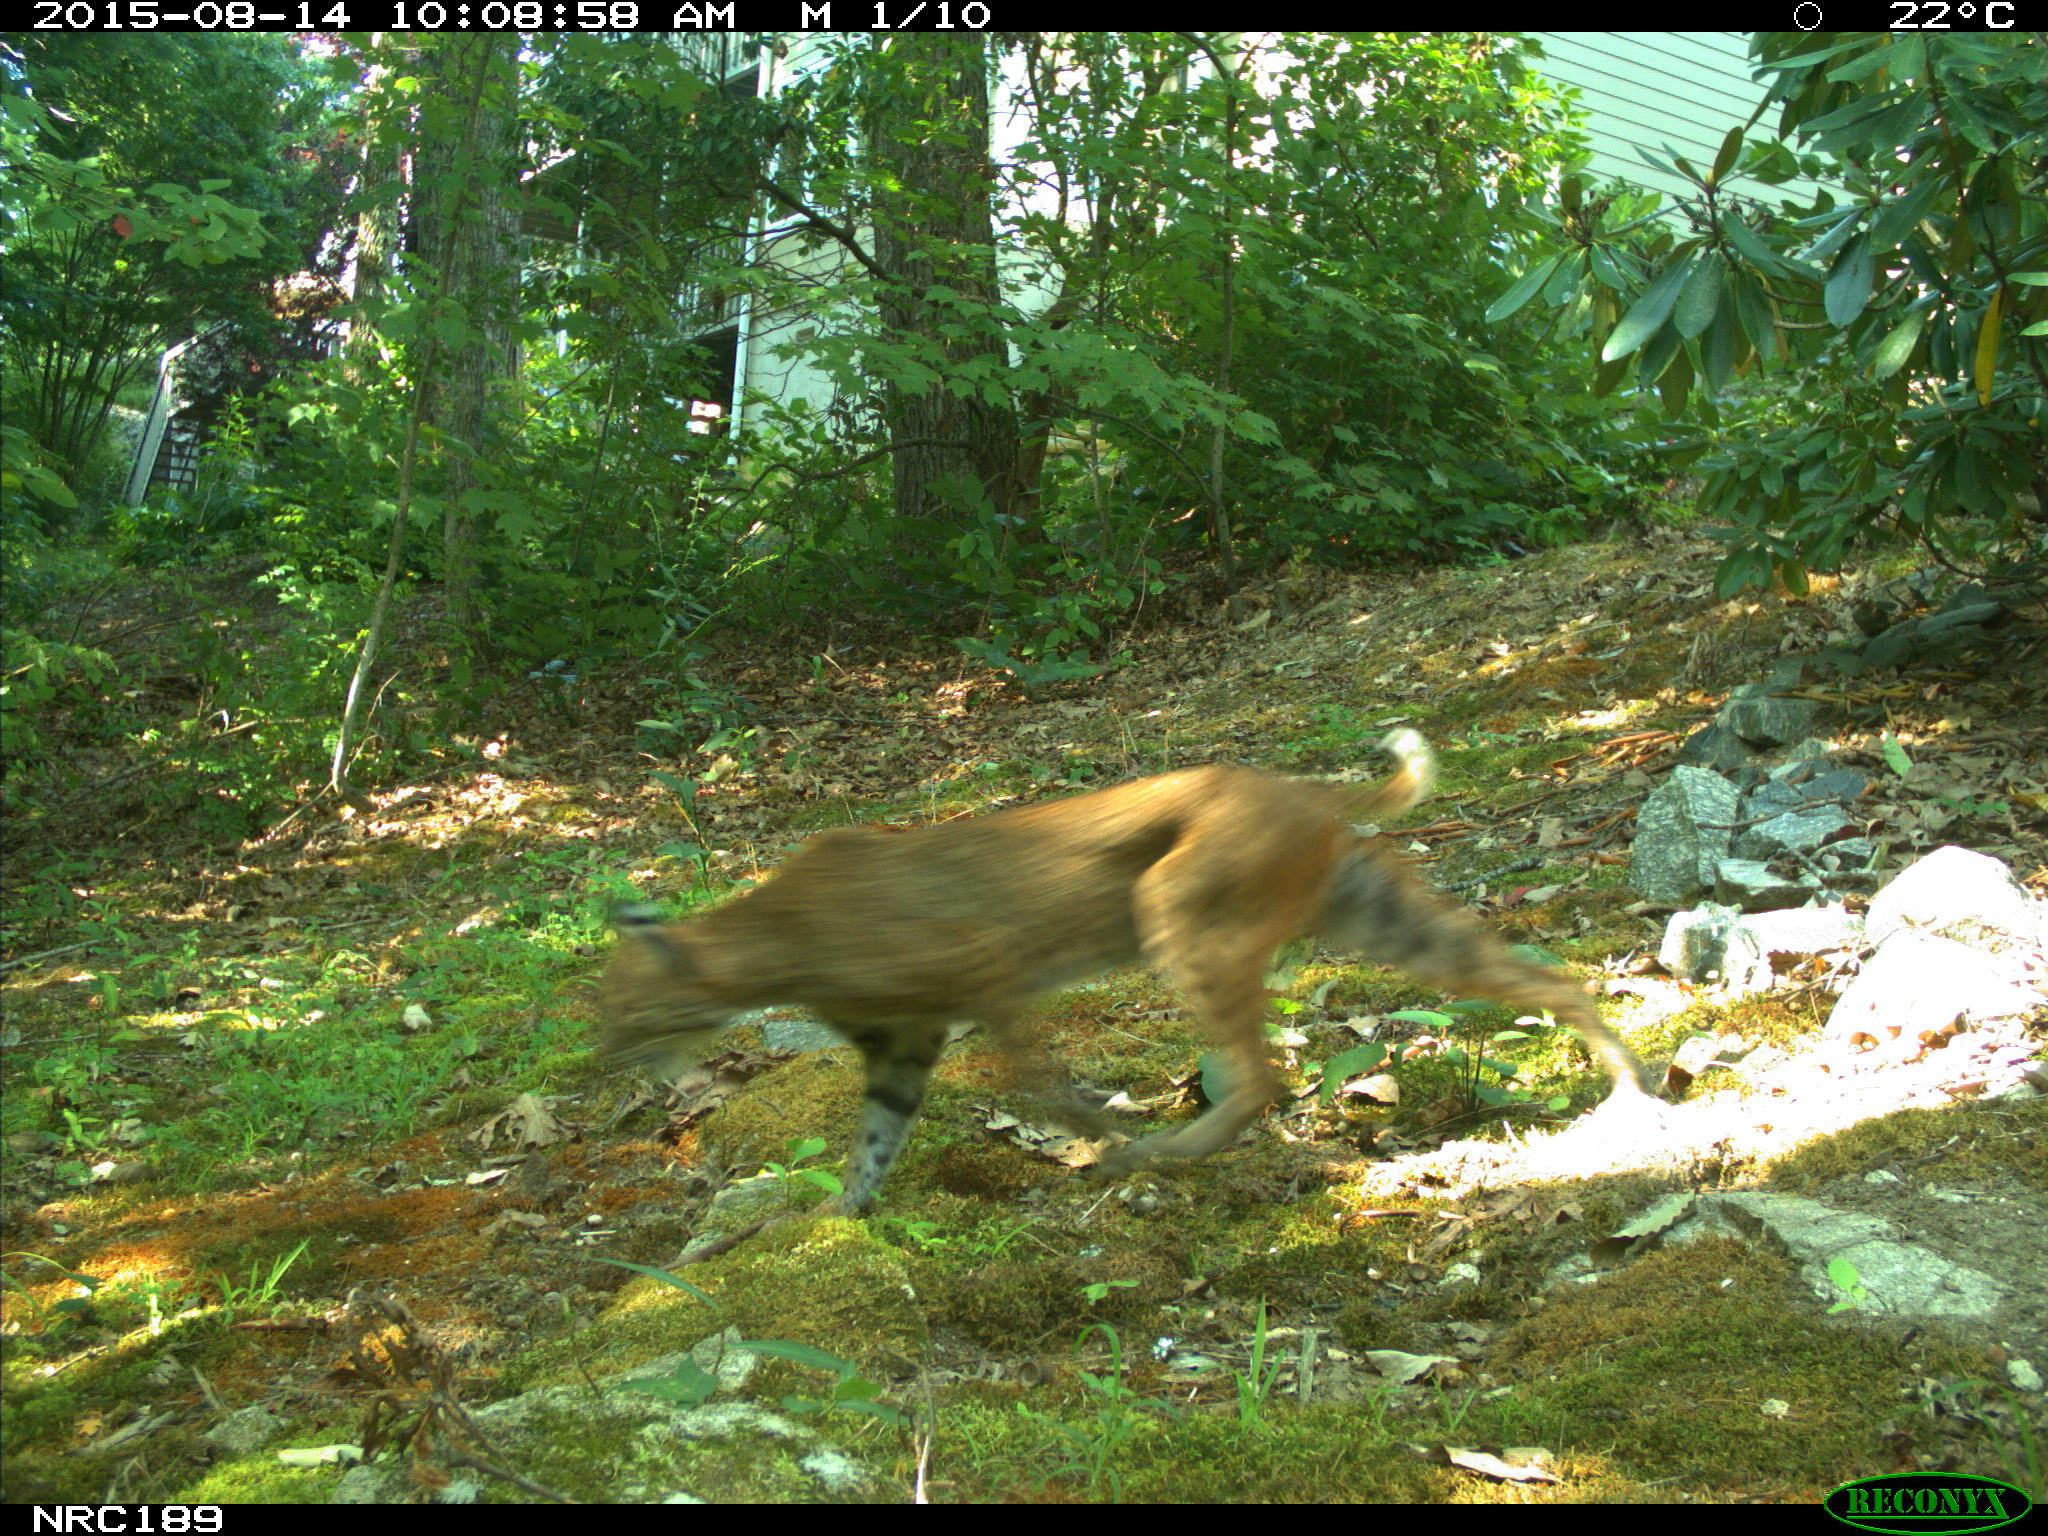Animal: (589, 736, 1630, 1220)
